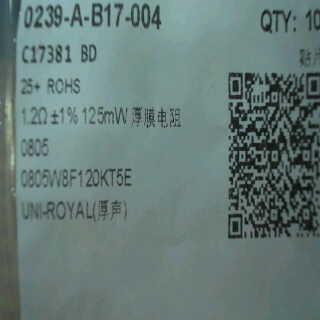1.2R: (15, 102, 52, 163)
